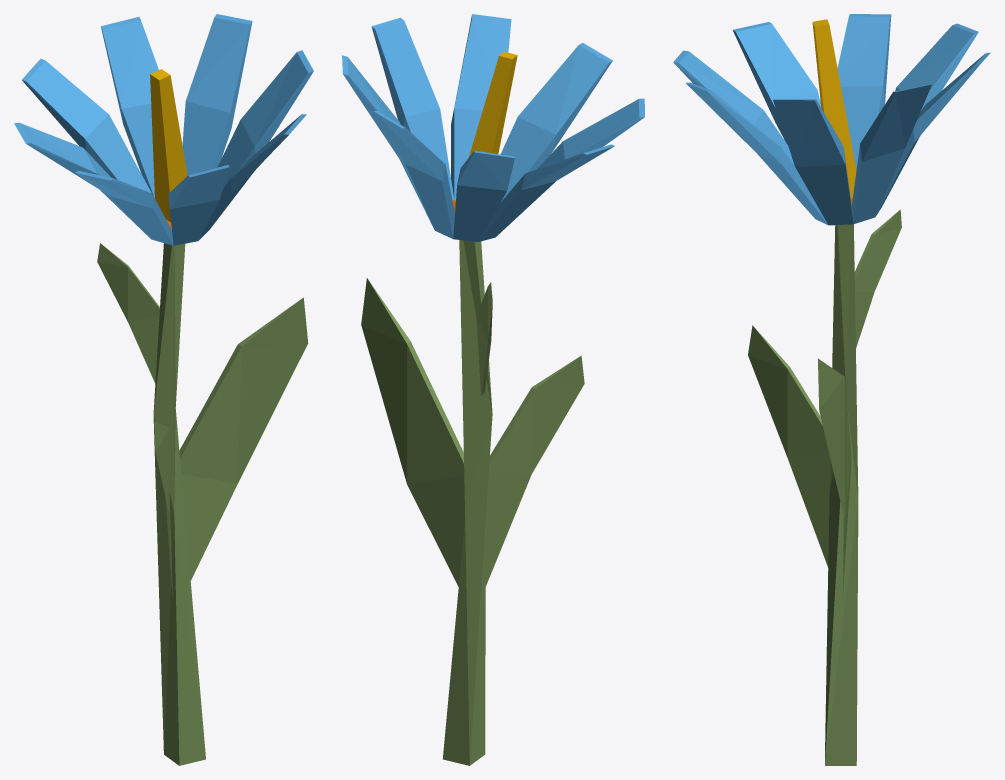
File: Flower 3_2.fbx
3 renders of one model, left to right at view 1: azimuth 30°, elevation 25°; view 2: azimuth 150°, elevation 25°; view 3: azimuth 270°, elevation 25°, orthographic. The views are drawn at different scales.
Visible parts, largest first — view 1: Flower 3_2; view 2: Flower 3_2; view 3: Flower 3_2.
Boxes of the visible parts, x1,y1,x2,y2 form: Flower 3_2: (14,14,313,765); Flower 3_2: (342,14,644,765); Flower 3_2: (673,14,990,765).
Bounding box in the file's own units: 0.1653 × 0.4129 × 0.1651.
